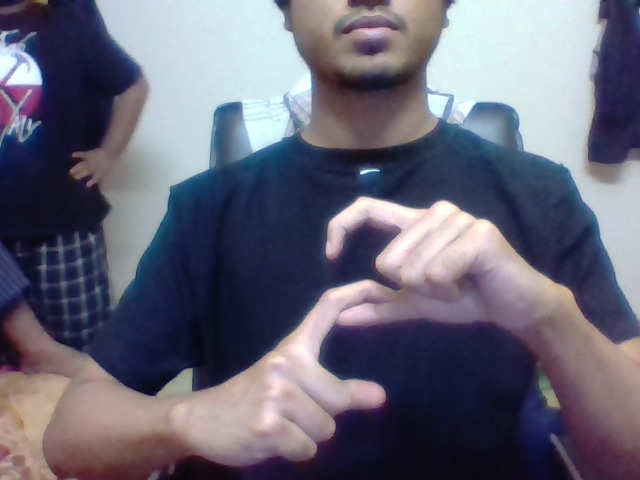S: (312, 191, 404, 412)
